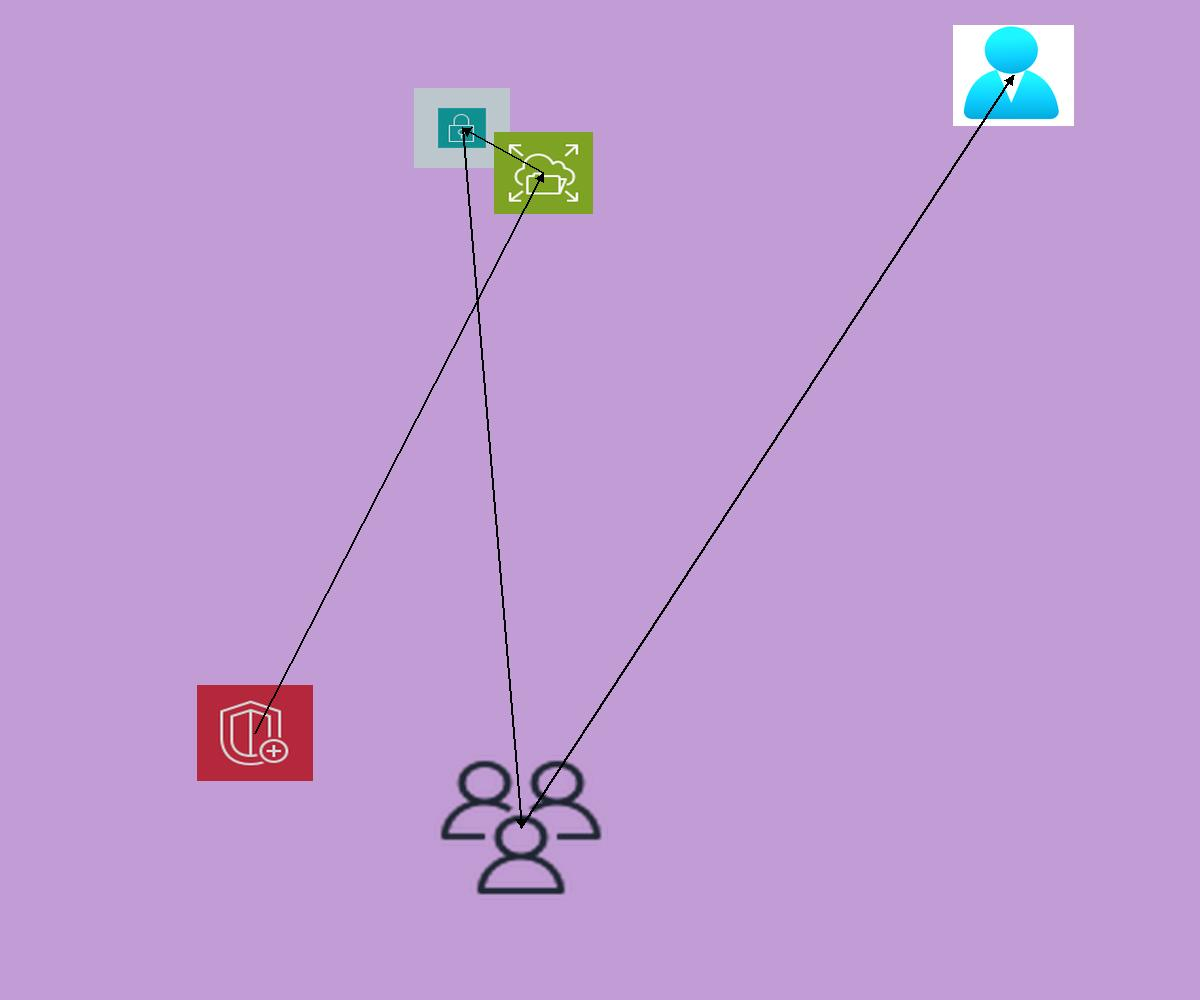AWS-EFS: (494, 132, 593, 214)
AWS-Private-subnet: (414, 88, 510, 168)
AWS-Res_Users: (434, 755, 608, 900)
AWS-Shield: (197, 685, 313, 781)
Azure_users: (953, 25, 1074, 126)
